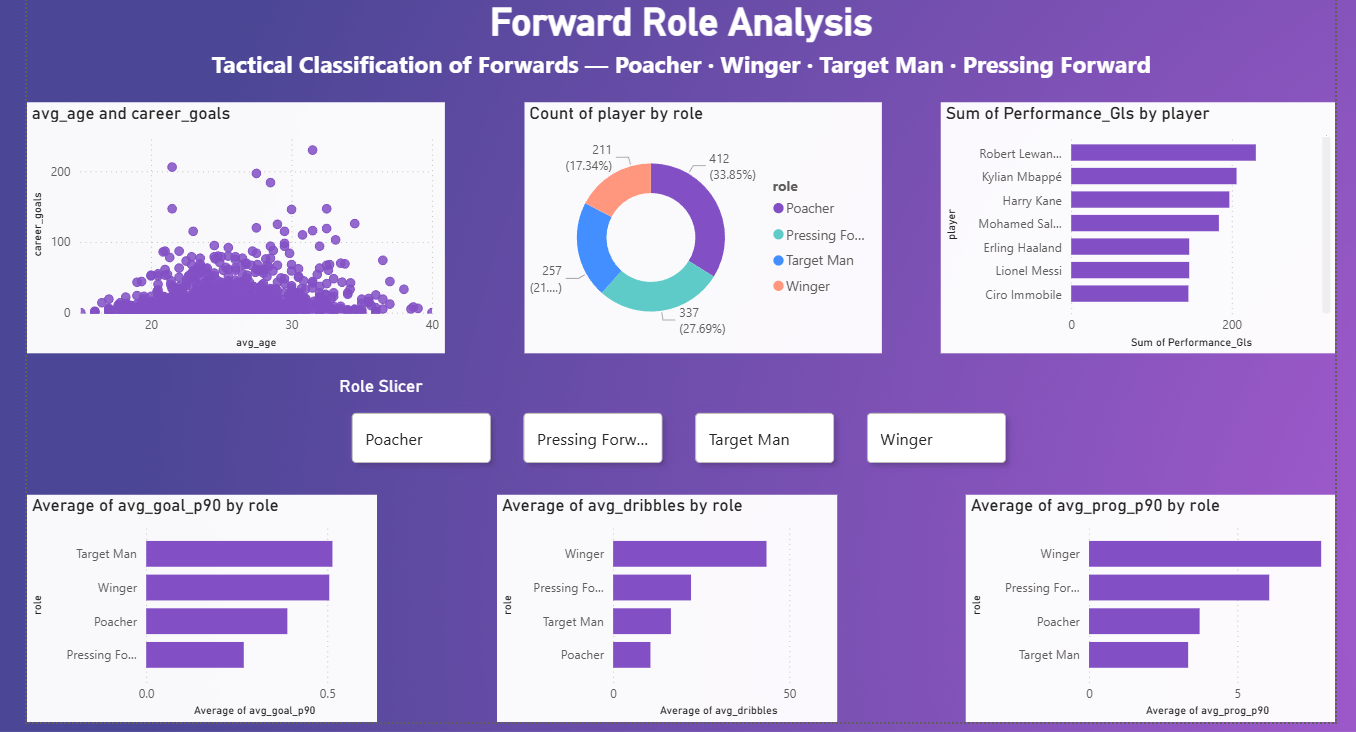

Layout of this report page (visuals, bound fields, positions):
{"tool":"powerbi","page":{"name":"Page 2","canvas":[1280,720],"ordinal":1},"visuals":[{"type":"donutChart","fields":{"Y":["CountNonNull(powerbi_forwards.player)"],"Category":["powerbi_forwards.role"]},"box":[486.7,113.7,349.7,245.8],"z":0},{"type":"barChart","fields":{"Category":["powerbi_forwards.role"],"Y":["Avg(powerbi_forwards.avg_goal_p90)"]},"box":[0,497.7,342.4,222.6],"z":1000},{"type":"barChart","fields":{"Y":["Avg(powerbi_forwards.avg_dribbles)"],"Category":["powerbi_forwards.role"]},"box":[459.8,497.7,332.6,222.6],"z":2000},{"type":"barChart","fields":{"Y":["Avg(powerbi_forwards.avg_prog_p90)"],"Category":["powerbi_forwards.role"]},"box":[918.3,497.7,362,222.6],"z":3000},{"type":"scatterChart","fields":{"X":["powerbi_forwards.avg_age"],"Y":["powerbi_forwards.career_goals"]},"box":[0,113.7,408.4,245.8],"z":4000},{"type":"advancedSlicerVisual","title":"Role Scaler","fields":{"Values":["powerbi_forwards.role"]},"box":[300.8,381.5,676.2,102.7],"z":5000},{"type":"textbox","title":"Forward Role Analysis","box":[0,13.5,1280.3,141.8],"z":5001},{"type":"clusteredBarChart","fields":{"Y":["Sum(powerbi_players.Performance_Gls)"],"Category":["powerbi_players.player"]},"box":[893.9,113.7,386.4,245.8],"z":5002}]}

Visuals, with their boxes on the page's 1280x720 design canvas (x1, y1, x2, y2). These are canvas units, not pixel positions in the 1356x732 screenshot, which may show the page scaled, cropped or inside an application window:
donutChart - CountNonNull(powerbi_forwards.player) x powerbi_forwards.role: <box>487,114,836,360</box>
barChart - powerbi_forwards.role x Avg(powerbi_forwards.avg_goal_p90): <box>0,498,342,720</box>
barChart - Avg(powerbi_forwards.avg_dribbles) x powerbi_forwards.role: <box>460,498,792,720</box>
barChart - Avg(powerbi_forwards.avg_prog_p90) x powerbi_forwards.role: <box>918,498,1280,720</box>
scatterChart - powerbi_forwards.avg_age x powerbi_forwards.career_goals: <box>0,114,408,360</box>
"Role Scaler" advancedSlicerVisual: <box>301,382,977,484</box>
"Forward Role Analysis" textbox: <box>0,14,1280,155</box>
clusteredBarChart - Sum(powerbi_players.Performance_Gls) x powerbi_players.player: <box>894,114,1280,360</box>
